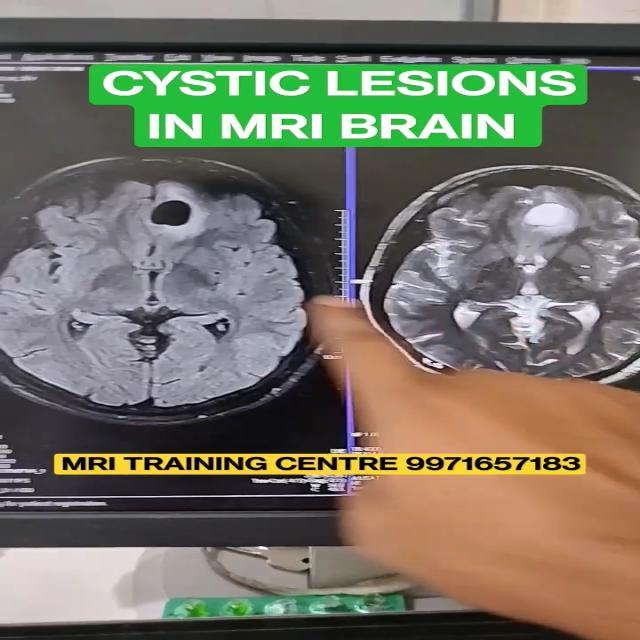tumor: (481, 187, 582, 232), (134, 184, 210, 231)
